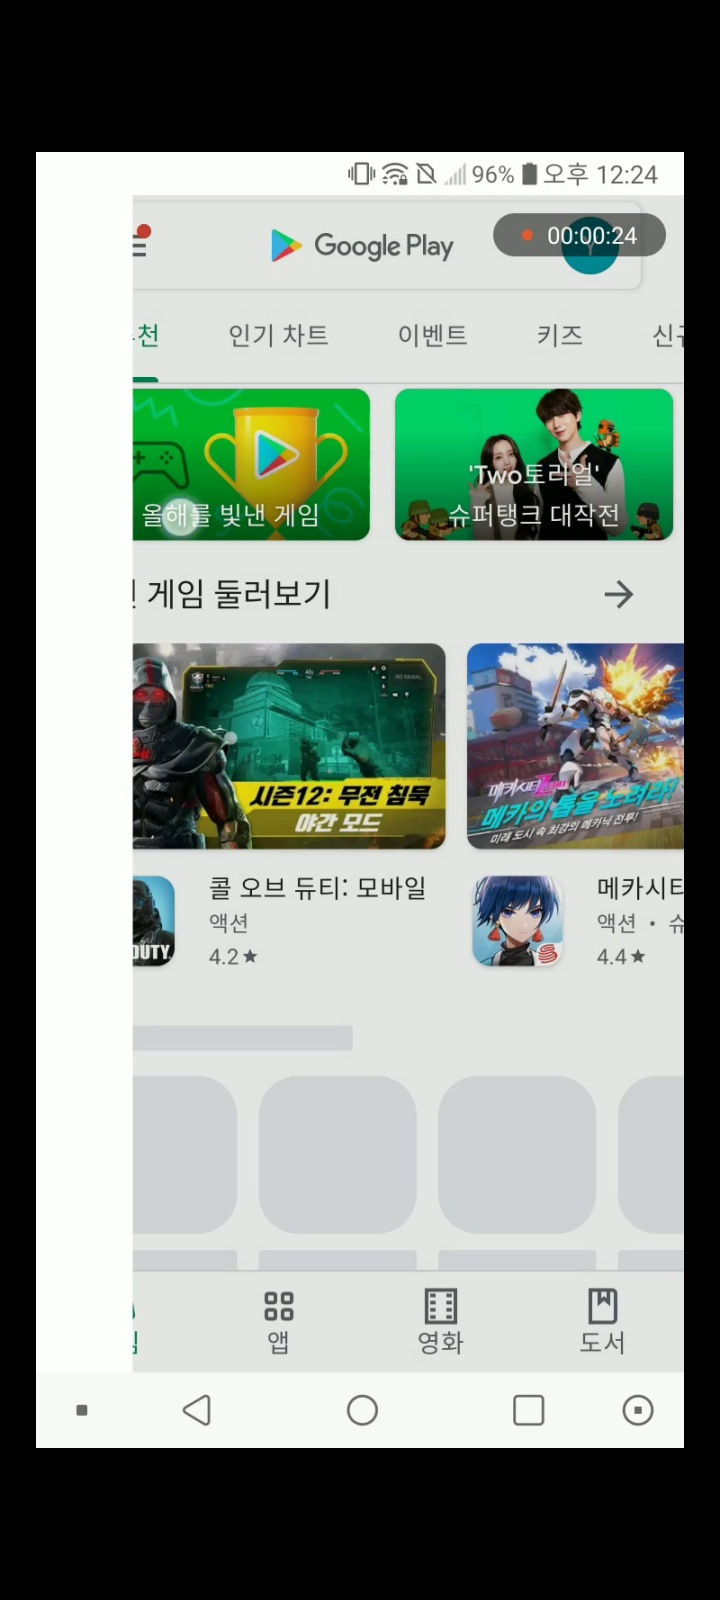Cursor: (158, 494, 203, 539)
